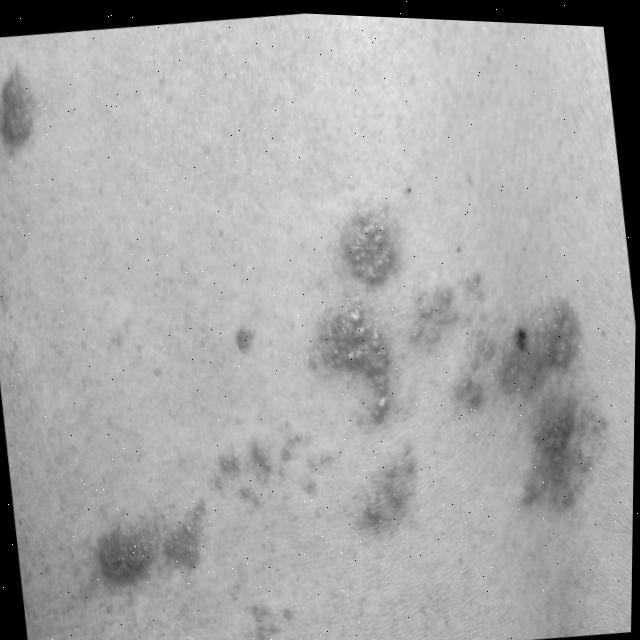Shingles: (54, 166, 621, 614), (0, 63, 45, 158)
